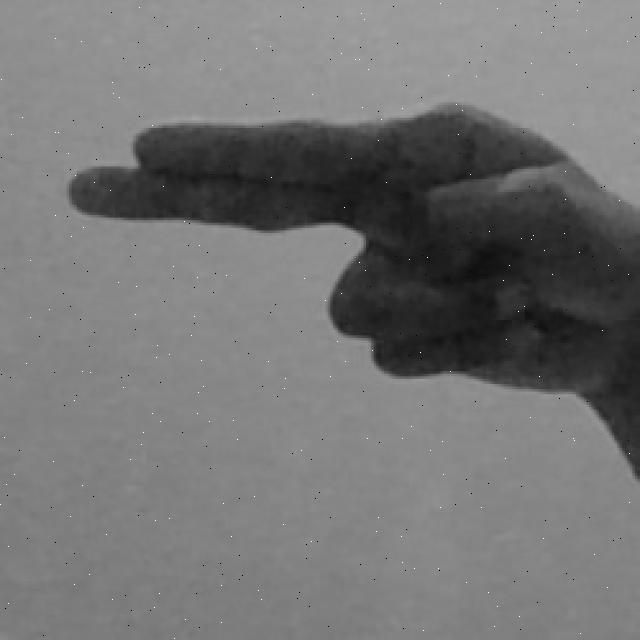H: (61, 96, 640, 504)
